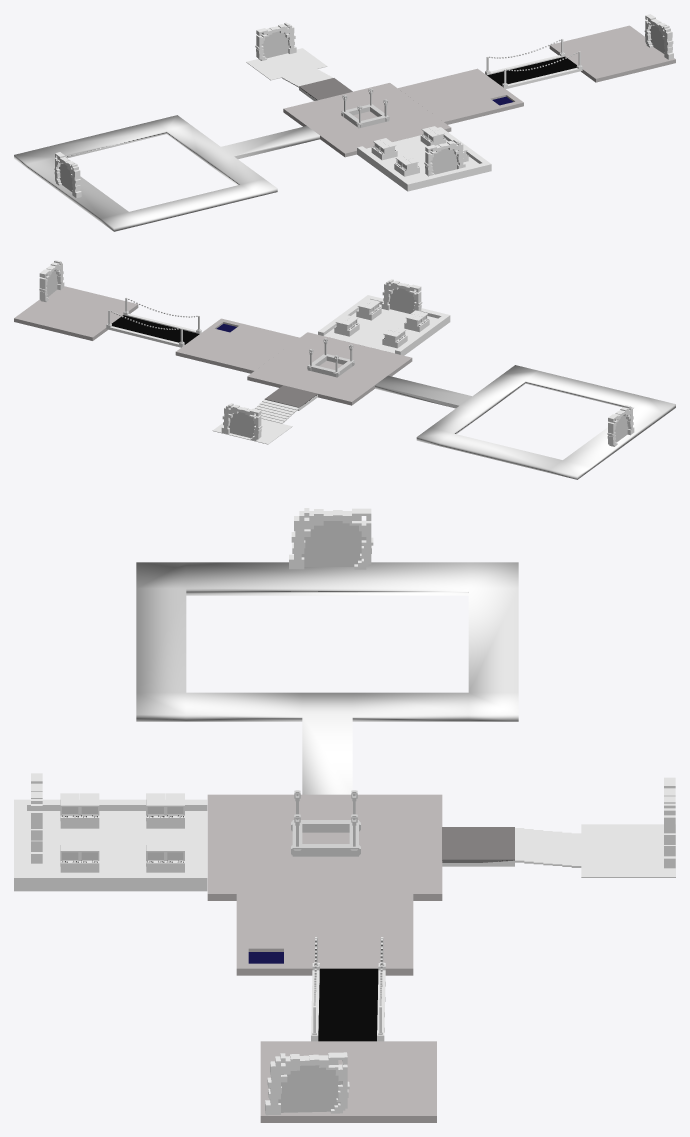
The model's file is Hub 2V3.fbx.
3 views of the same model, one above another, from view 1: azimuth 30°, elevation 25°; view 2: azimuth 150°, elevation 25°; view 3: azimuth 270°, elevation 25° (orthographic). The views are drawn at different scales.
Visible parts, largest first — view 1: Labyrinth, Dice Boss Floor, Central Hall, Arcade Boss Floor, Hub Entry, Plank Bridge, Bridge, Reception, ArkV2.2, ArkV2.003, ArkV2, ArkV2.001 (+2 smaller); view 2: Labyrinth, Dice Boss Floor, Central Hall, Arcade Boss Floor, Hub Entry, Plank Bridge, Bridge, Reception, ArkV2.2, ArkV2.003, ArkV2, ArkV2.001 (+2 smaller); view 3: Labyrinth, Dice Boss Floor, Central Hall, Arcade Boss Floor, Hub Entry, Plank Bridge, Veil, Veil.003, ArkV2.001, ArkV2, Reception, Bridge (+2 smaller).
Part boxes in pixels (x1,y1,x2,y2): Labyrinth: (14,115,319,231); Dice Boss Floor: (398,25,675,124); Central Hall: (283,83,451,157); Arcade Boss Floor: (357,127,491,191); Hub Entry: (246,48,352,100); Plank Bridge: (487,56,576,86); Bridge: (485,39,582,88); Reception: (341,88,389,128); ArkV2.2: (255,22,296,60); ArkV2.003: (424,139,465,176); ArkV2: (644,14,673,59); ArkV2.001: (54,152,81,198); Labyrinth: (375,365,675,479); Dice Boss Floor: (14,286,299,373); Central Hall: (247,332,412,405); Arcade Boss Floor: (318,295,450,355); Hub Entry: (212,385,317,444); Plank Bridge: (112,315,199,344); Bridge: (106,297,201,347); Reception: (307,338,354,377); ArkV2.2: (221,403,262,440); ArkV2.003: (381,279,422,311); ArkV2: (39,260,64,301); ArkV2.001: (607,405,634,446); Labyrinth: (136,562,518,794); Dice Boss Floor: (236,894,436,1122); Central Hall: (207,794,442,900); Arcade Boss Floor: (14,799,207,891); Hub Entry: (442,824,675,877); Plank Bridge: (318,968,378,1041); Veil: (278,1065,342,1112); Veil.003: (301,521,366,566); ArkV2.001: (289,508,373,569); ArkV2: (265,1052,349,1115); Reception: (291,790,360,856); Bridge: (311,937,385,1041).
Size of the model in its own units: 27627 by 1508 by 13968.
